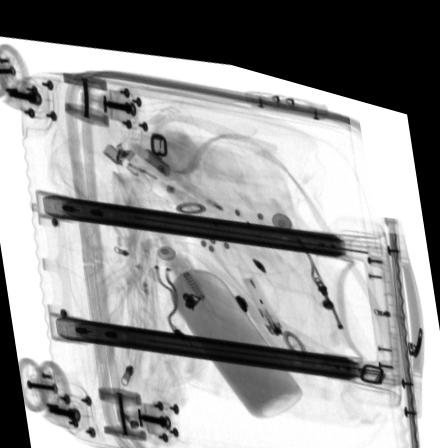Lighter: (103, 133, 199, 201)
